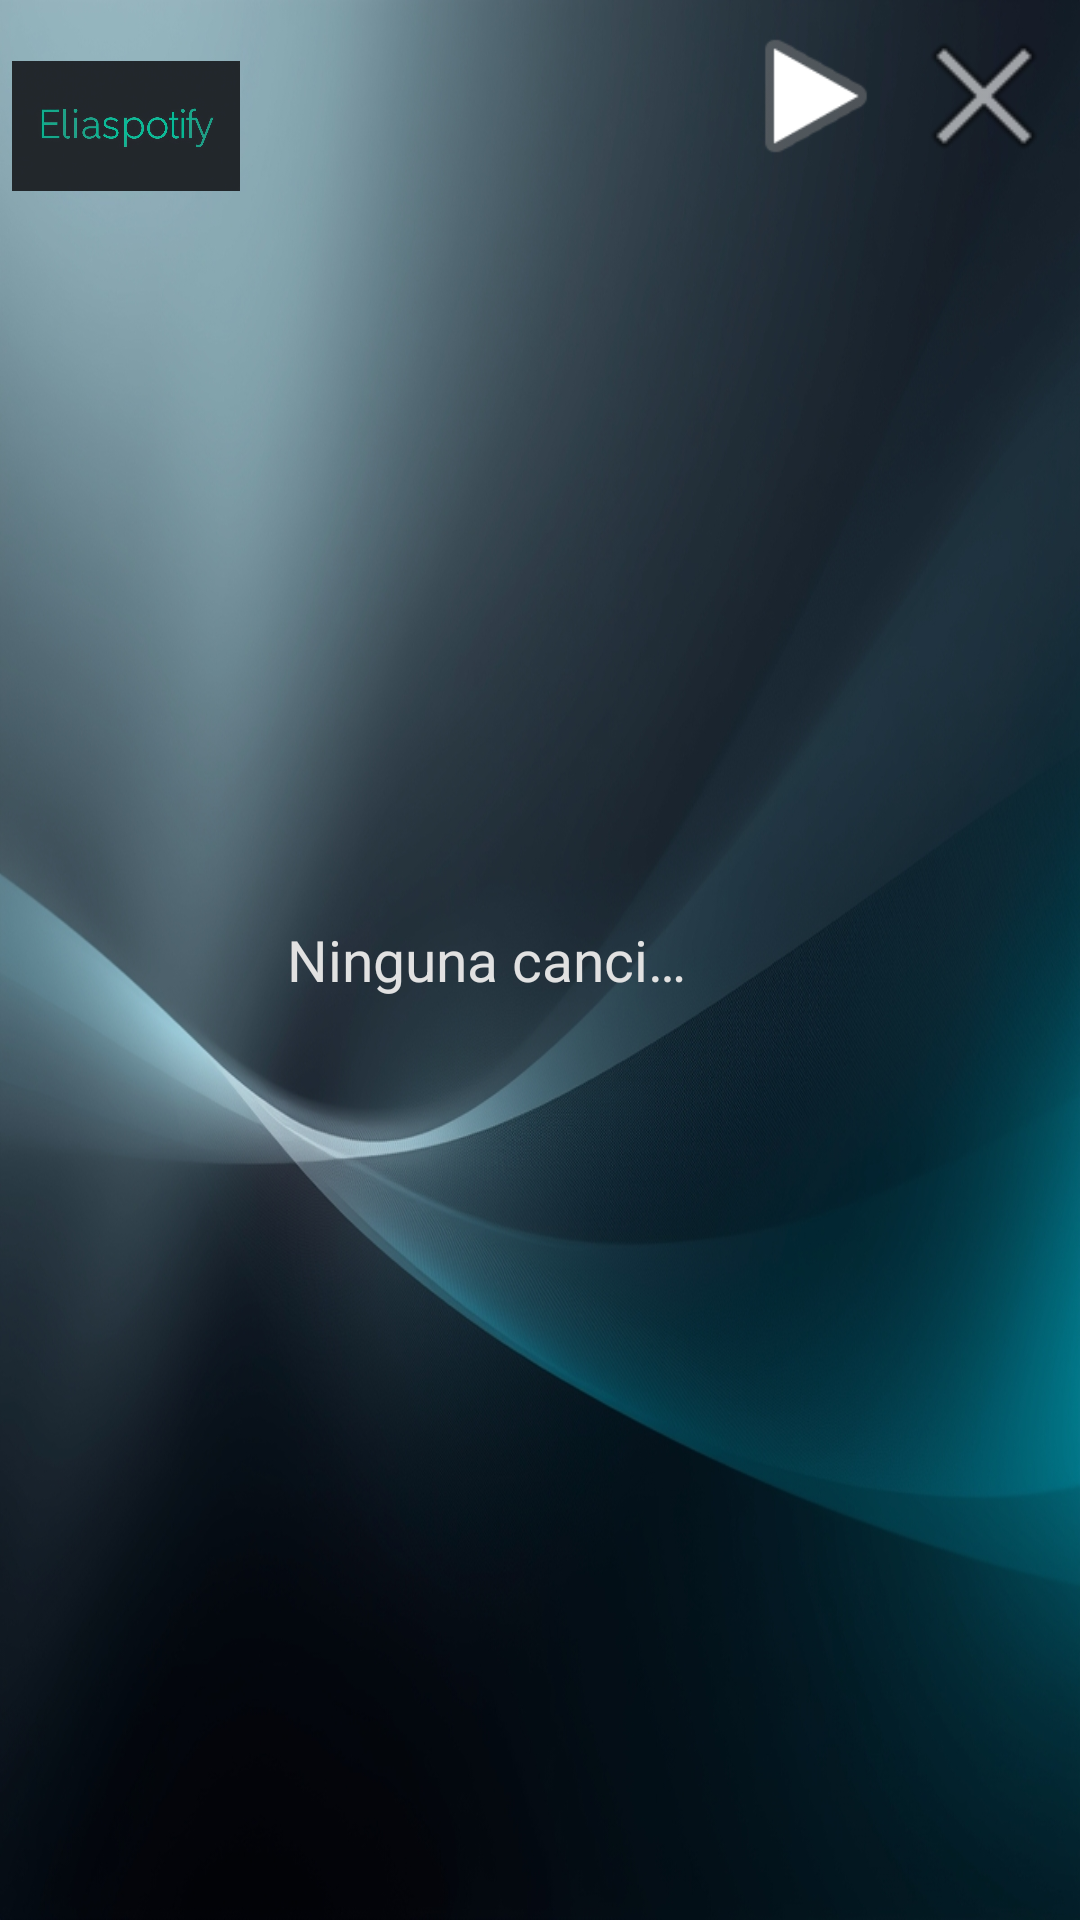

Screen size 1080w x 1920h. Icon name, then its center in pixels as point (x, y):
close clear cancel: point (984, 96)
play: point (816, 96)
